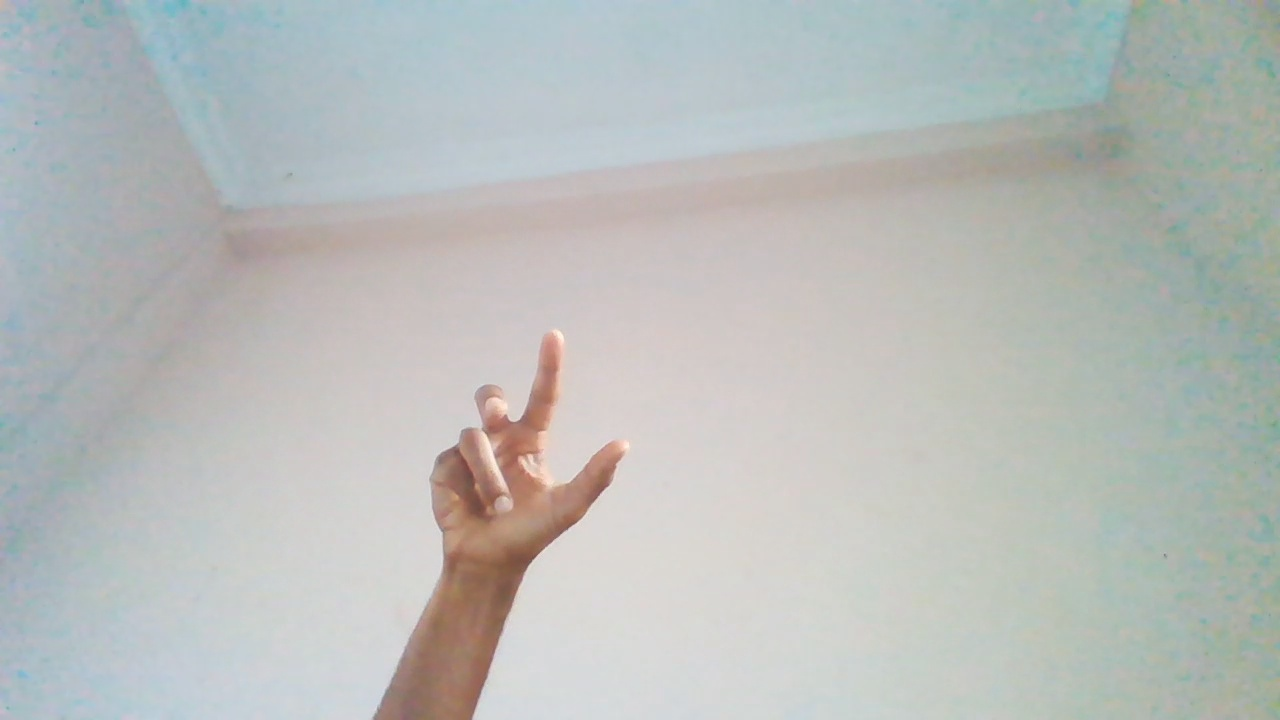hhe: (423, 331, 629, 644)
